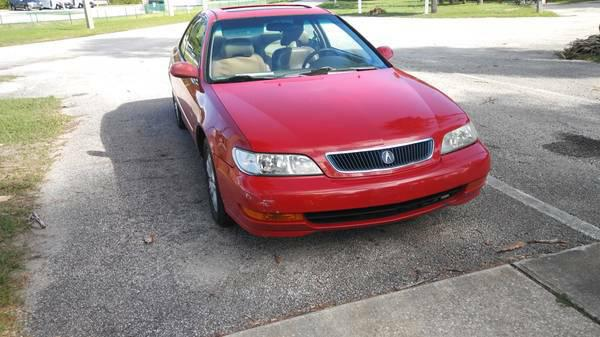acura: (159, 1, 505, 251)
